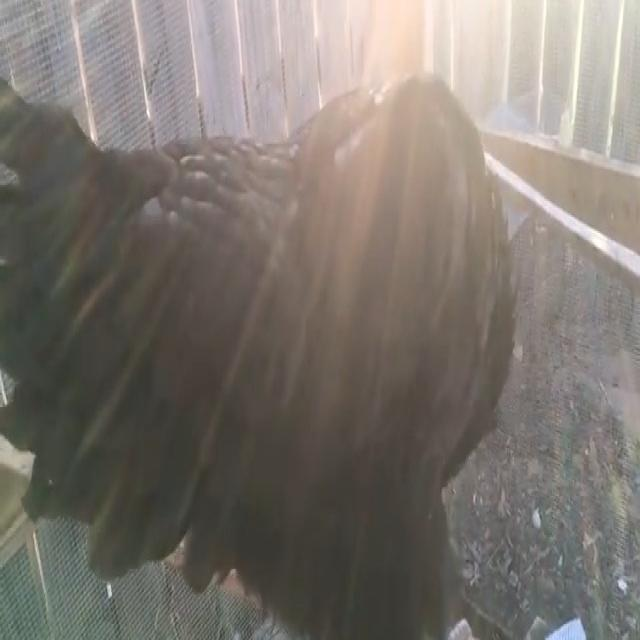self preening: (0, 51, 506, 640)
